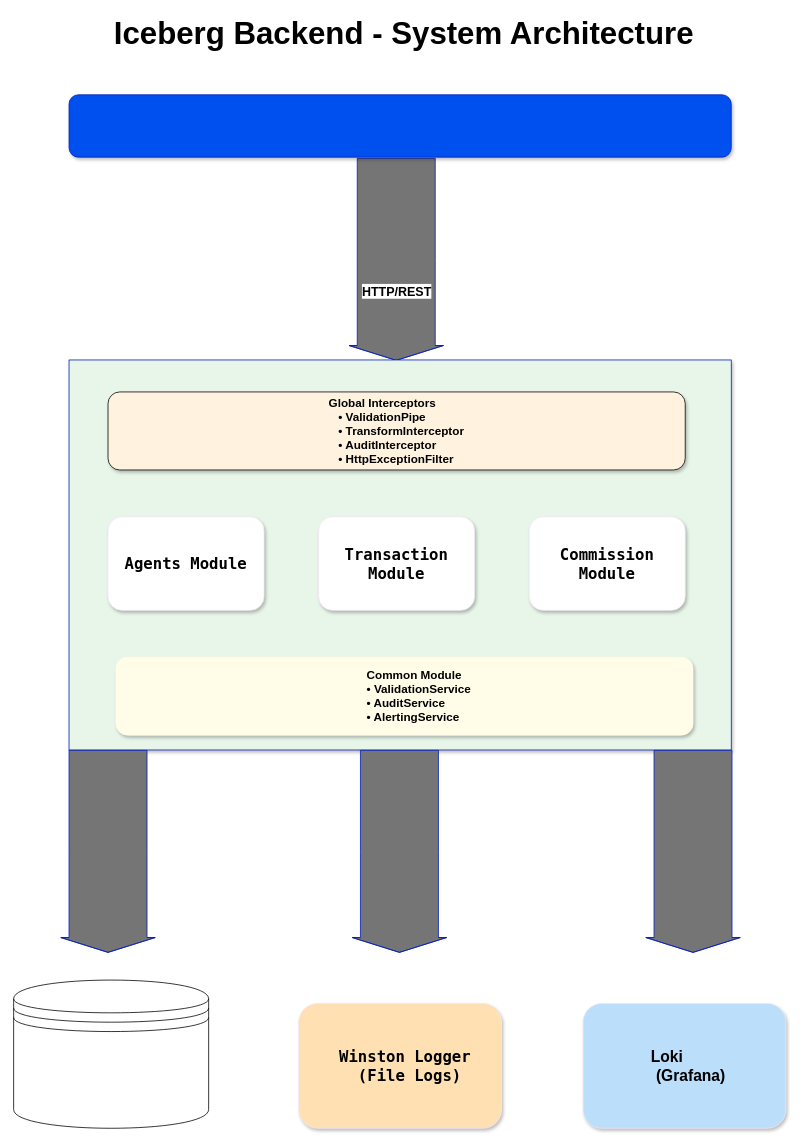
The diagram is 804 pixels wide and 1147 high, and some of its shapes have lost their labels. The centre of each missing label's shape, as x and y in pixels:
Cl ient (Frontend): (400,127)
MongoDB Atlas: (111,1053)
